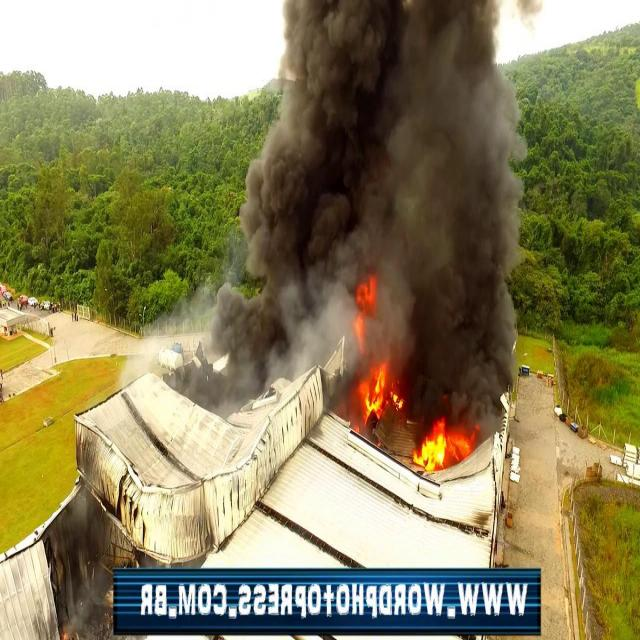fire: (355, 356, 481, 478)
